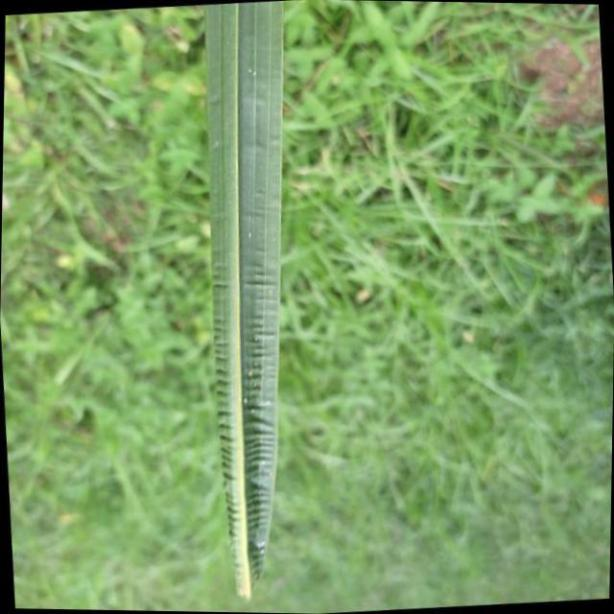Boron: (209, 0, 284, 604)
